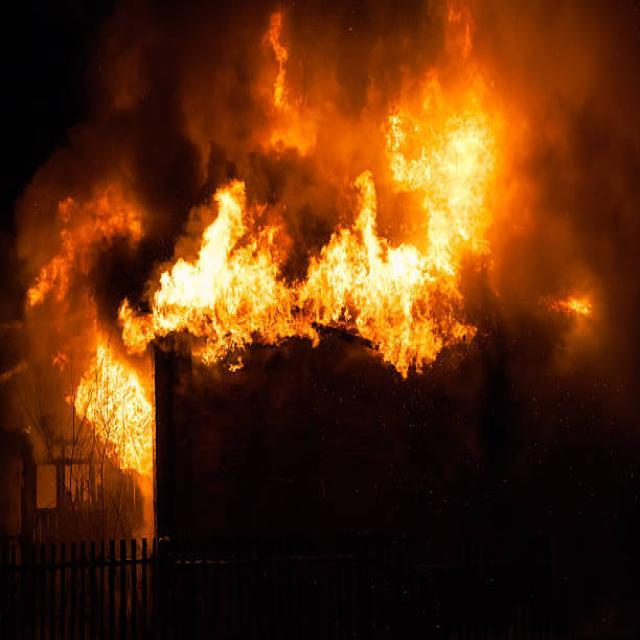Fire: (104, 196, 302, 320), (316, 218, 452, 337), (396, 100, 502, 221), (81, 348, 160, 465)
Smoke: (112, 0, 440, 160), (495, 7, 640, 338), (15, 164, 130, 334), (242, 150, 367, 261)
